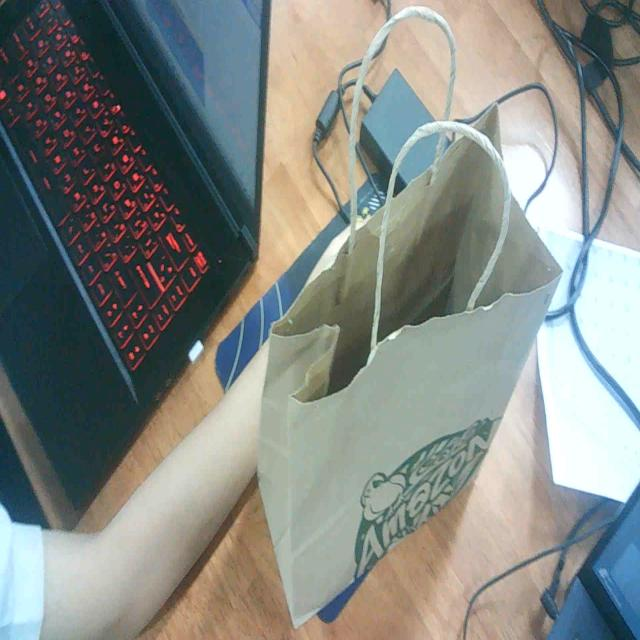bag: (270, 123, 548, 640)
